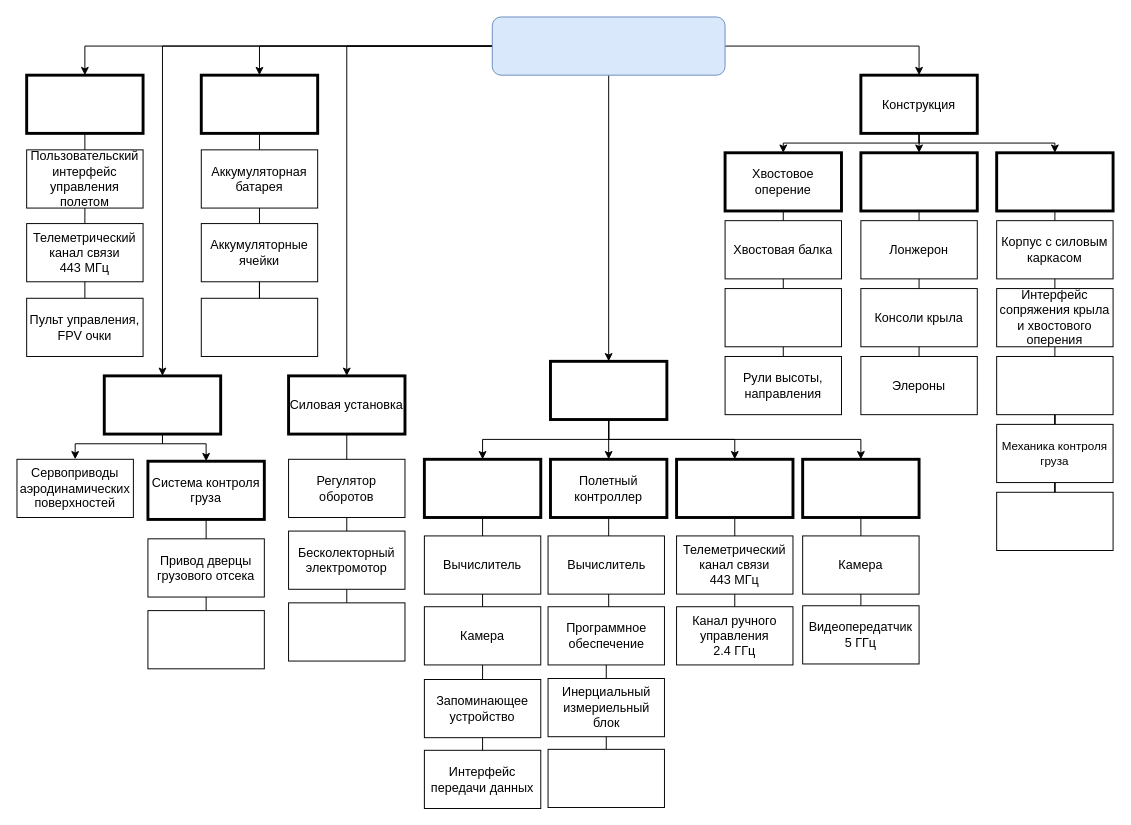
Image size: 1131x825. Some labels were removed from this diagram. The shapes that lost their labels are listed below. From the top down, each one's centre as x and y in pixels, then its label:
At (x=608, y=45): "ЛА".
At (x=84, y=103): "Наземный пункт управления".
At (x=259, y=103): "Система питания".
At (x=918, y=181): "Крыло".
At (x=1054, y=181): "Фюзеляж".
At (x=259, y=326): "Силовой и балансировочный кабели".
At (x=782, y=317): "Горизонтальное, вертикальное оперение".
At (x=162, y=404): "Система исполнительных устройств".
At (x=608, y=389): "Бортовое оборудование".
At (x=1054, y=385): "Крышки и дверцы грузового отсека".
At (x=482, y=487): "Система компьютерного зрения".
At (x=734, y=487): "Система связи".
At (x=860, y=487): "FPV система".
At (x=1054, y=520): "Моторама".
At (x=205, y=639): "Привод подвеса груза".
At (x=346, y=631): "Воздушный винт".
At (x=605, y=778): "Внешние датчики".
